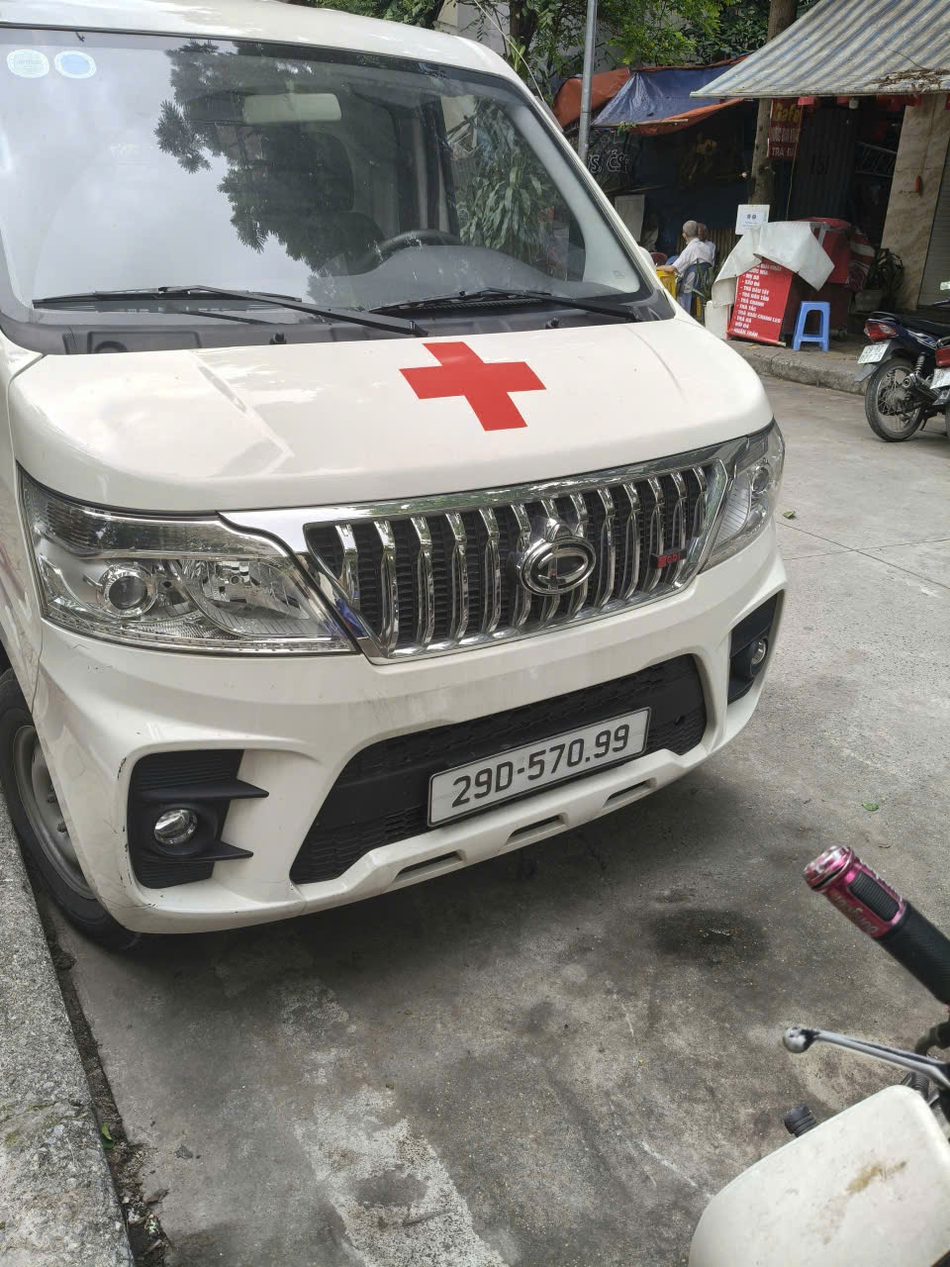plate: (95, 521, 242, 551)
